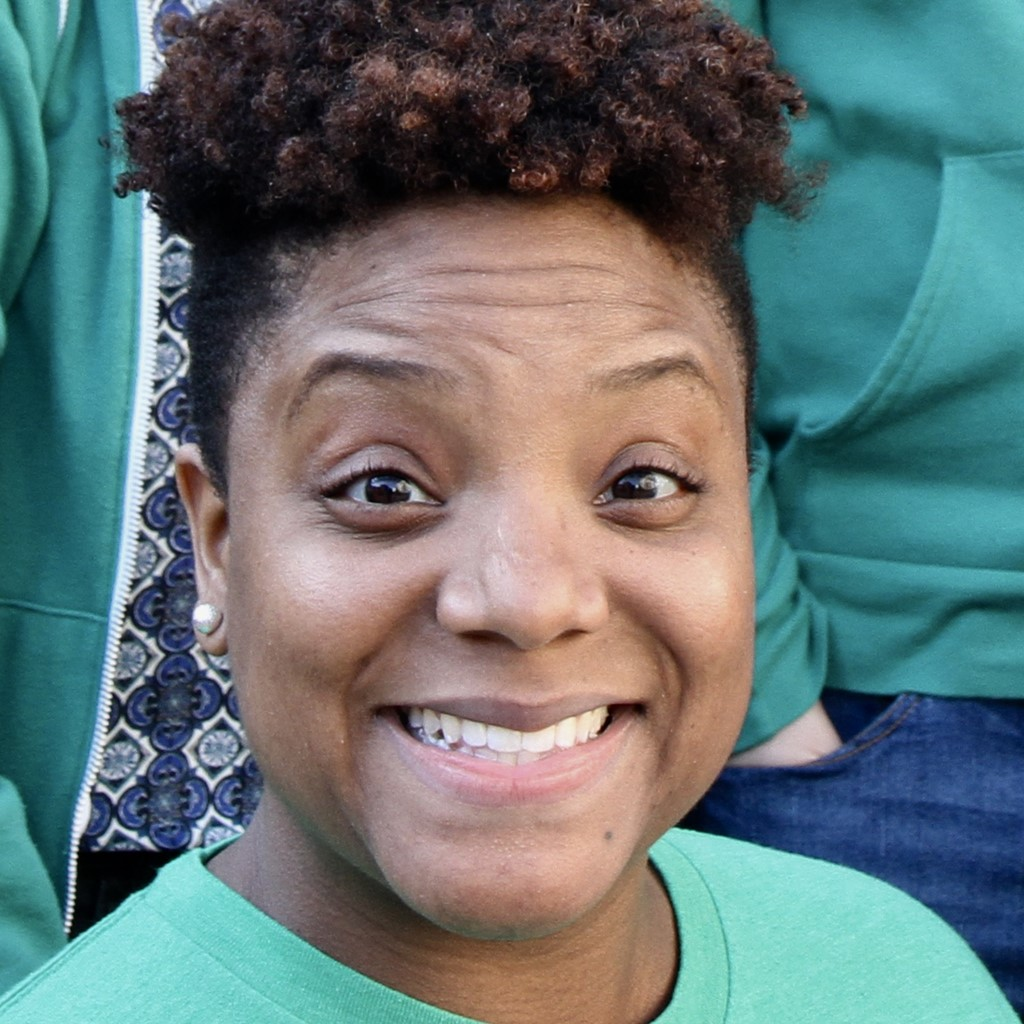sin_mascara: (208, 193, 758, 925)
